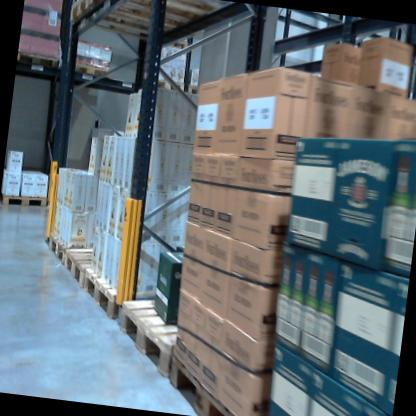pallet: (108, 292, 217, 388), (76, 261, 196, 343), (162, 350, 271, 416), (62, 0, 206, 47), (83, 0, 222, 26), (40, 230, 99, 279), (56, 243, 109, 296), (0, 188, 50, 216), (17, 47, 66, 75), (68, 50, 113, 79), (142, 75, 195, 94)
